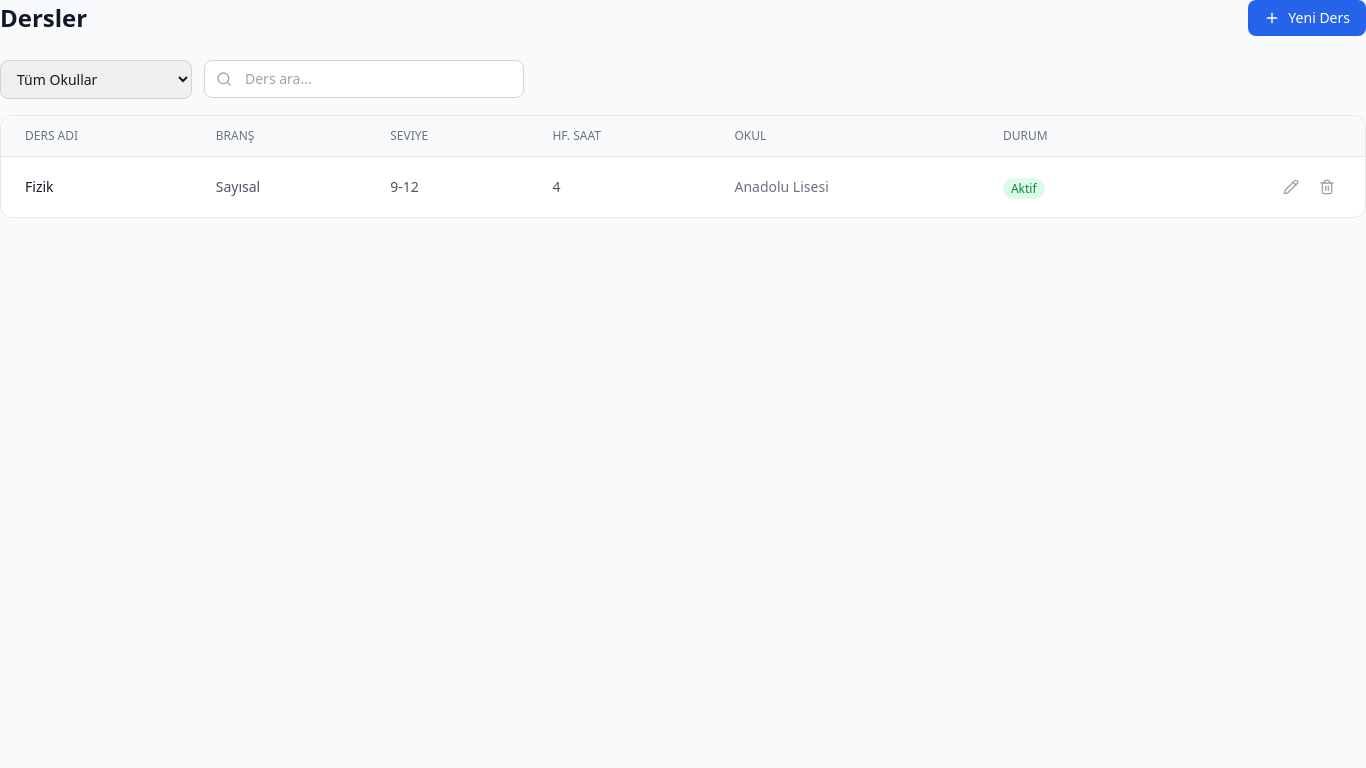
SubjectsPage › düzenle butonuna tıklayınca "Dersi Düzenle" modal açılır
Expected: the text "Fizik" is shown, [1,156,192,217]
Click the button titled "Düzenle" at (1291,187), box [1277,173,1305,201]
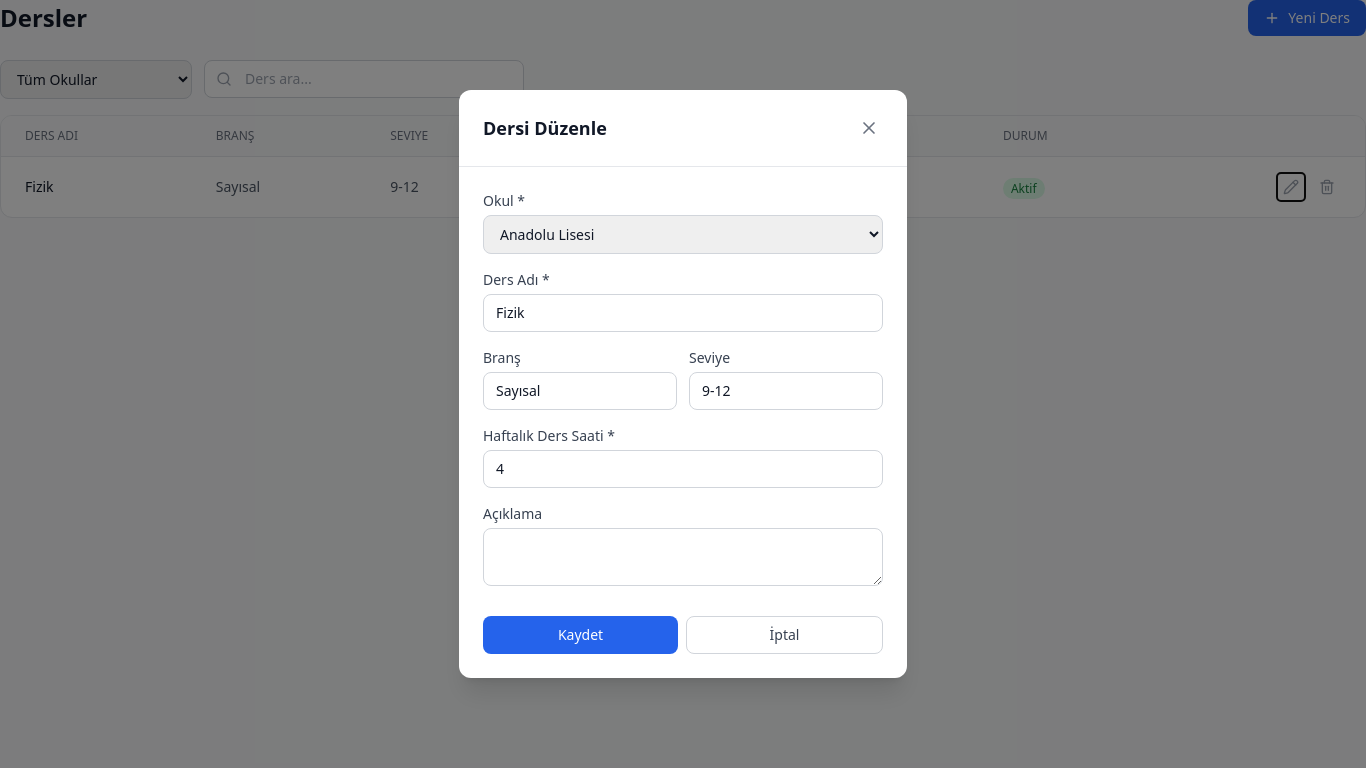
Now the heading "Dersi Düzenle" is shown, box [483,114,607,142]
